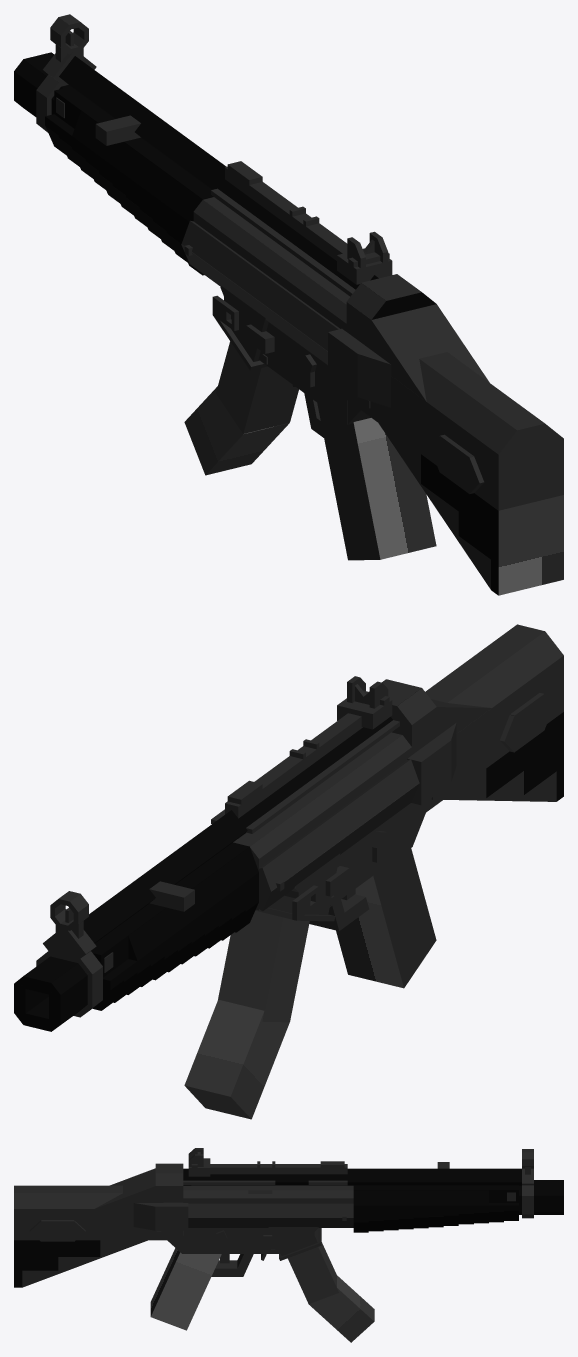
The model's file is mteg_mp5.glb.
The picture shows the model from 3 angles, top to bottom: view 1: azimuth 30°, elevation 25°; view 2: azimuth 150°, elevation 25°; view 3: azimuth 270°, elevation 25°; orthographic projection. The views are drawn at different scales.
Parts seen in each view (by area): view 1: Gun; view 2: Gun; view 3: Gun.
Part boxes in pixels (x1,y1,x2,y2): Gun: [14, 14, 563, 595]; Gun: [14, 624, 563, 1119]; Gun: [14, 1148, 563, 1342].
Size of the model in its own units: 0.1281 by 0.4266 by 1.14.
1 material, 1 textured.
